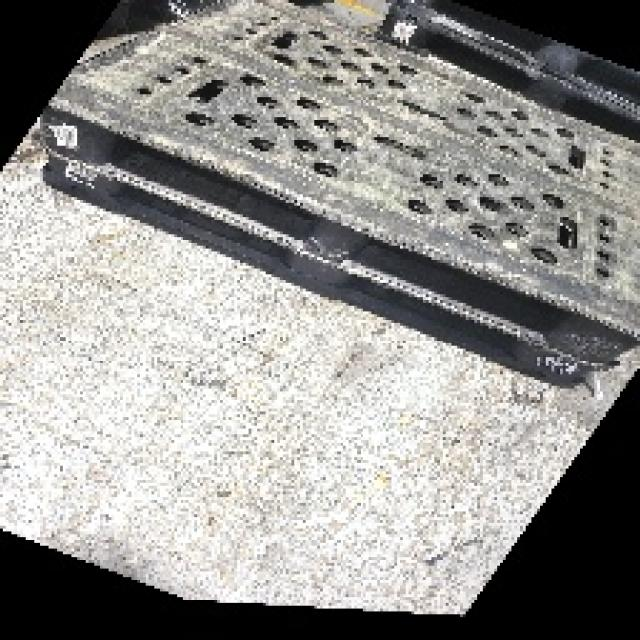igps: (34, 0, 640, 376), (38, 136, 626, 394)
